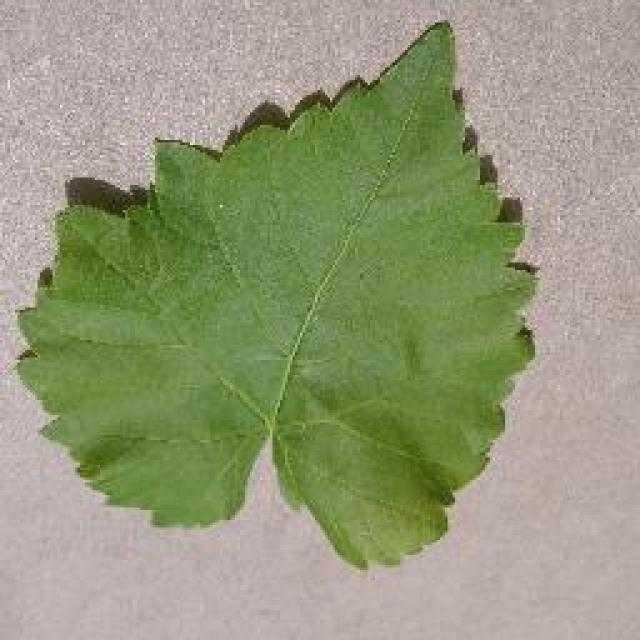Healthy: (63, 0, 531, 596)
